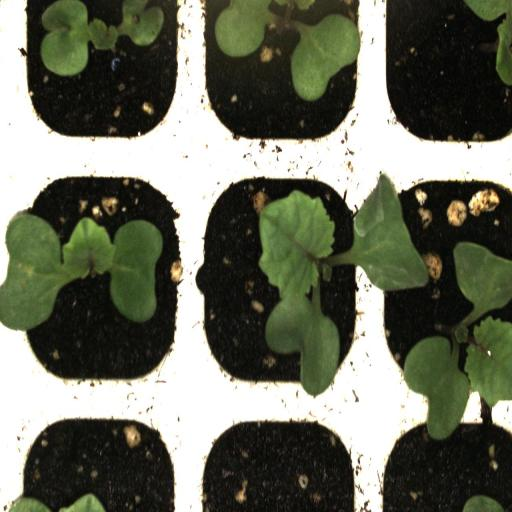seedling: (191, 164, 369, 398), (20, 164, 194, 396), (372, 163, 512, 400), (16, 0, 194, 163), (194, 0, 370, 159)
